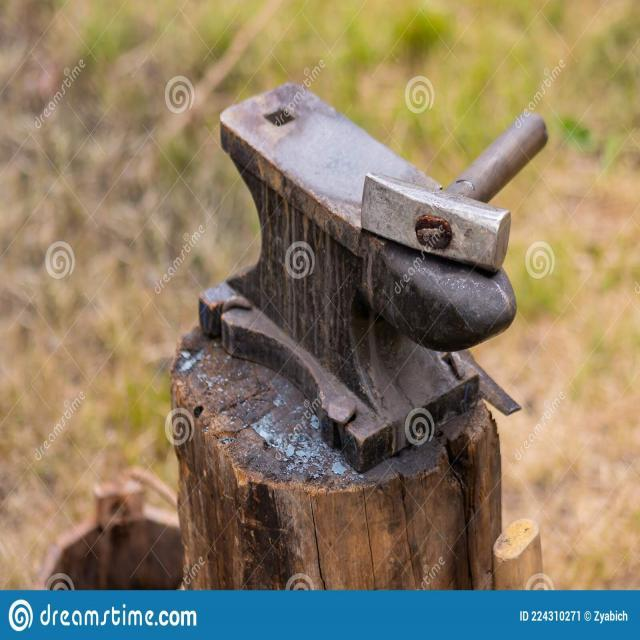hammer: (352, 103, 564, 276)
